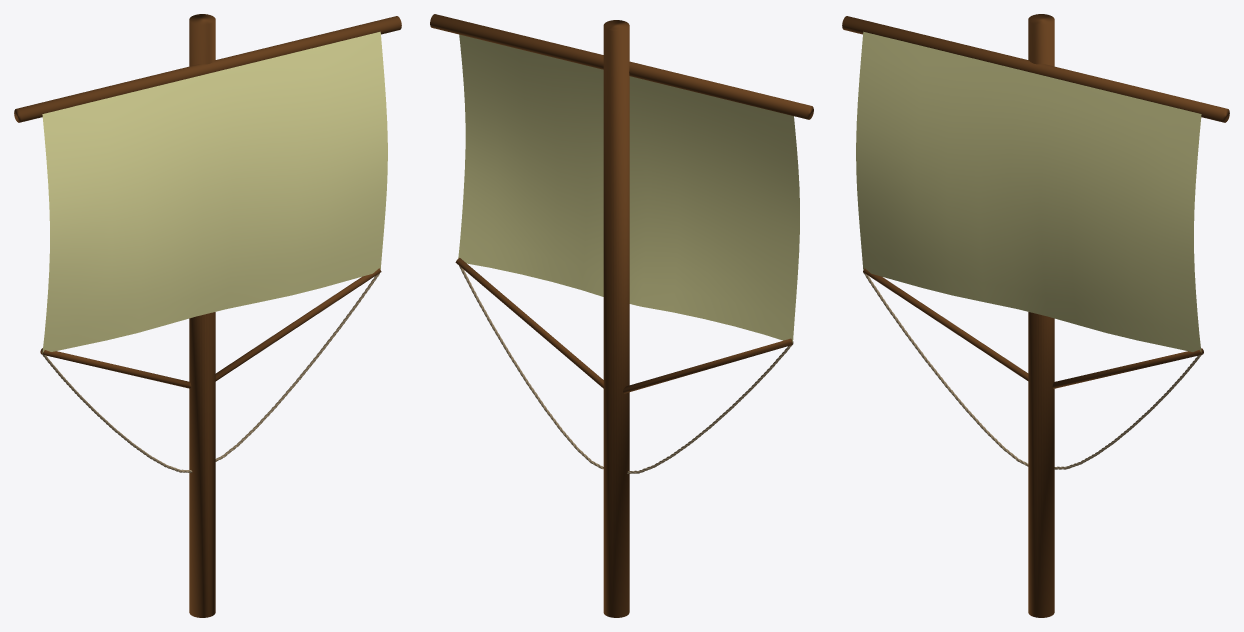
The model's file is Mast and Sail Joined.fbx.
The picture shows the model from 3 angles, left to right: view 1: azimuth 30°, elevation 25°; view 2: azimuth 150°, elevation 25°; view 3: azimuth 330°, elevation 25°; orthographic projection.
Parts seen in each view (by area): view 1: Plane; view 2: Plane; view 3: Plane.
Boxes of the visible parts, left/top/right/bottom form: Plane: left=14, top=14, right=401, bottom=617; Plane: left=430, top=14, right=813, bottom=617; Plane: left=842, top=14, right=1229, bottom=617.
Bounding box in the file's own units: 291 × 433 × 32.07.
